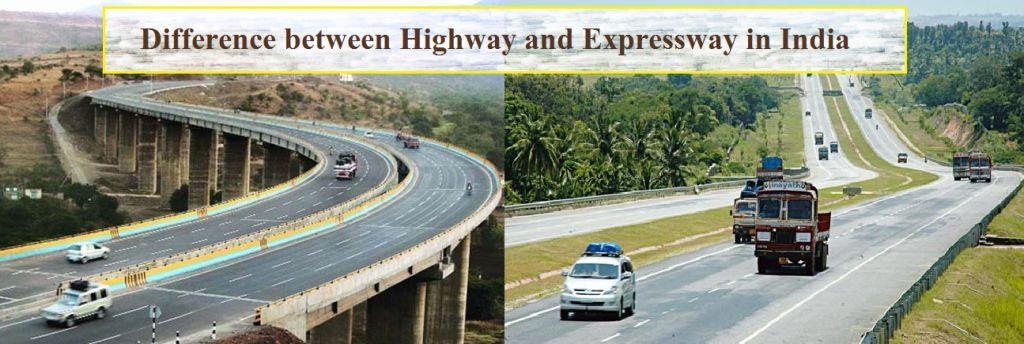Car: (557, 241, 643, 323), (41, 282, 115, 329), (64, 242, 112, 266)
Truck: (752, 182, 835, 275), (968, 154, 991, 184)
